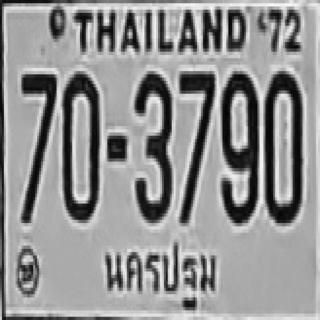N00: (61, 71, 98, 220), (264, 68, 300, 220)
N03: (133, 71, 170, 220)
N07: (178, 68, 212, 223), (20, 71, 54, 220), (20, 73, 54, 183)
N09: (220, 70, 258, 222)
P28: (96, 236, 224, 314)
